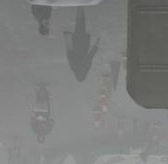person: (62, 7, 98, 80), (30, 87, 54, 145), (31, 3, 54, 37)
